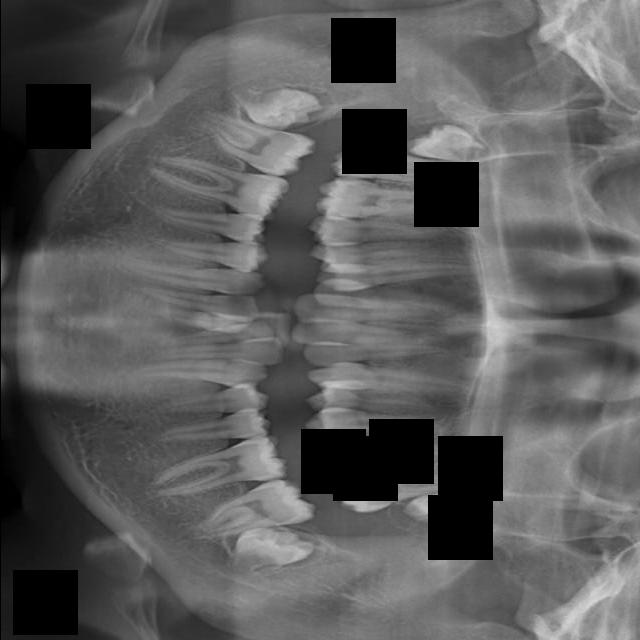3M ESPE Implant: (413, 105, 483, 158)
AGS Medikal Implant: (178, 479, 305, 543)
AMerOss Implant: (133, 440, 281, 505)
Amalgam filling: (336, 119, 457, 173)
Anthogyr Implant: (118, 416, 265, 455)
Bicon Implant: (128, 391, 264, 418)
BioHorizons Implant: (136, 365, 271, 392)
BioLife Implant: (160, 339, 275, 371)
Biomet 3i Implant: (168, 330, 279, 348)
Blue Sky Bio Implant: (170, 311, 278, 329)
Camlog Implant: (168, 289, 279, 316)
Caries: (299, 340, 450, 382)
Composite filling: (146, 264, 282, 292)
Cowellmedi Implant: (139, 238, 274, 264)
Crown: (123, 197, 276, 242)
DENTSPLY Implant: (316, 159, 438, 202)
Dentatus Implant: (143, 152, 288, 216)
Dentis Implant: (184, 109, 317, 176)
Dentium Implant: (231, 78, 316, 131)
Euroteknika Implant: (311, 198, 447, 230)
Filling: (307, 224, 446, 255)
Frontier Implant: (312, 252, 470, 276)
Hiossen Implant: (312, 374, 464, 410)
Implant: (287, 299, 451, 328)
Implant Direct: (300, 274, 452, 312)
Keystone Dental Implant: (288, 327, 446, 356)
MIS Implant: (302, 398, 434, 424)
Mandible: (298, 415, 436, 451)
Maxilla: (375, 464, 412, 473)
Megagen Implant: (319, 481, 442, 527)
Neodent Implant: (400, 493, 466, 537)
Neoss Implant: (213, 527, 297, 570)
